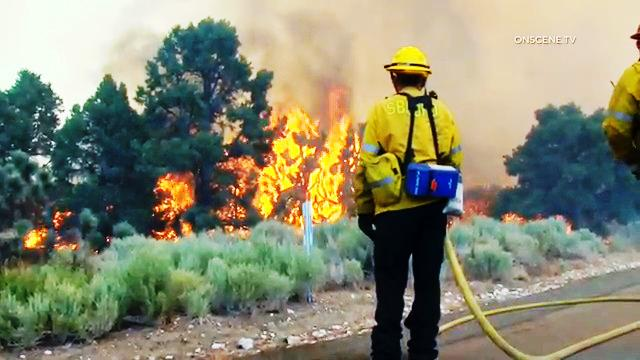fire: (252, 2, 366, 83), (270, 106, 346, 219), (152, 166, 189, 224), (18, 221, 45, 252)
